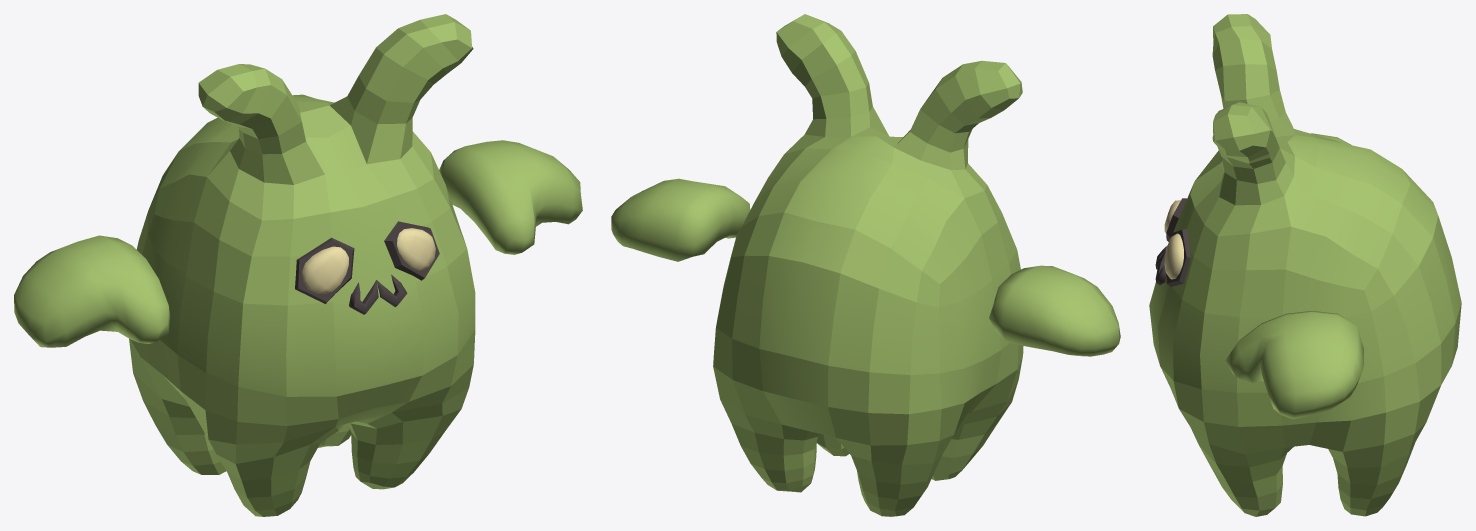
File: NEW Plorp_rig_mats.fbx
3 views of the same model, side by side, from view 1: azimuth 30°, elevation 25°; view 2: azimuth 150°, elevation 25°; view 3: azimuth 270°, elevation 25° (orthographic). The views are drawn at different scales.
Parts seen in each view (by area): view 1: Plorp_GEO, Plorp_R_Hand_GEO, Plorp_L_Hand_GEO, Plorp_R_Eye_GEO, Plorp_L_Eye_GEO, Plorp_R_EyeRing_GEO, Mouth_GEO, Plorp_L_EyeRing_GEO; view 2: Plorp_GEO, Plorp_R_Hand_GEO, Plorp_L_Hand_GEO; view 3: Plorp_GEO, Plorp_L_Hand_GEO, Plorp_L_Eye_GEO, Plorp_L_EyeRing_GEO.
Boxes of the visible parts, x1=… form: Plorp_GEO: x1=129, y1=14, x2=475, y2=516; Plorp_R_Hand_GEO: x1=14, y1=235, x2=170, y2=347; Plorp_L_Hand_GEO: x1=439, y1=140, x2=582, y2=254; Plorp_R_Eye_GEO: x1=302, y1=246, x2=348, y2=293; Plorp_L_Eye_GEO: x1=397, y1=228, x2=435, y2=270; Plorp_R_EyeRing_GEO: x1=295, y1=237, x2=354, y2=303; Mouth_GEO: x1=349, y1=274, x2=407, y2=314; Plorp_L_EyeRing_GEO: x1=384, y1=221, x2=439, y2=280; Plorp_GEO: x1=713, y1=14, x2=1023, y2=516; Plorp_R_Hand_GEO: x1=989, y1=265, x2=1120, y2=356; Plorp_L_Hand_GEO: x1=611, y1=178, x2=750, y2=261; Plorp_GEO: x1=1149, y1=14, x2=1461, y2=516; Plorp_L_Hand_GEO: x1=1225, y1=311, x2=1363, y2=419; Plorp_L_Eye_GEO: x1=1164, y1=233, x2=1183, y2=279; Plorp_L_EyeRing_GEO: x1=1166, y1=229, x2=1190, y2=286.
Bounding box in the file's own units: 155 × 124 × 82.93.
